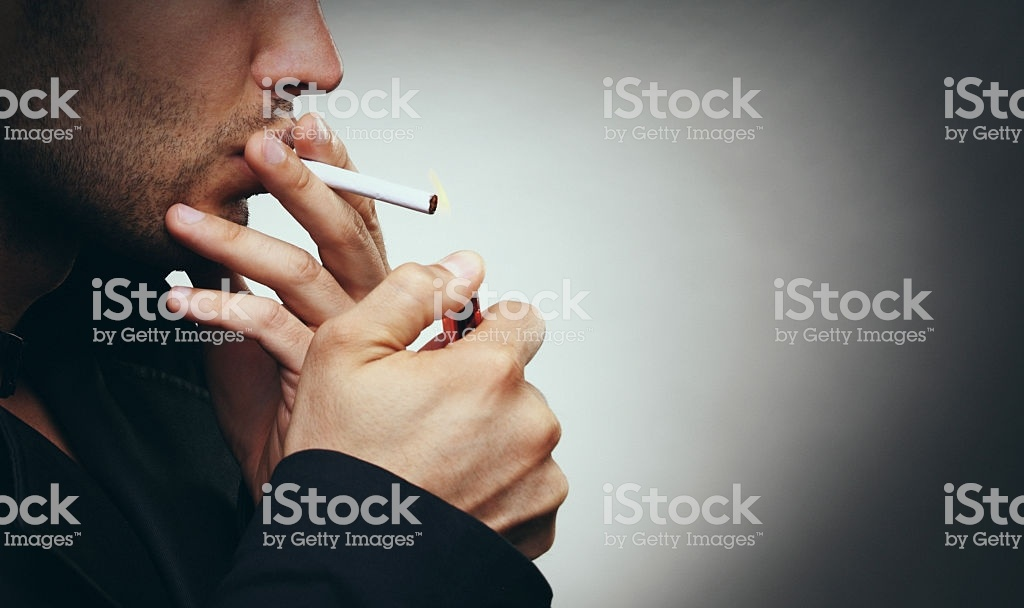sigaretta: (280, 152, 435, 209)
